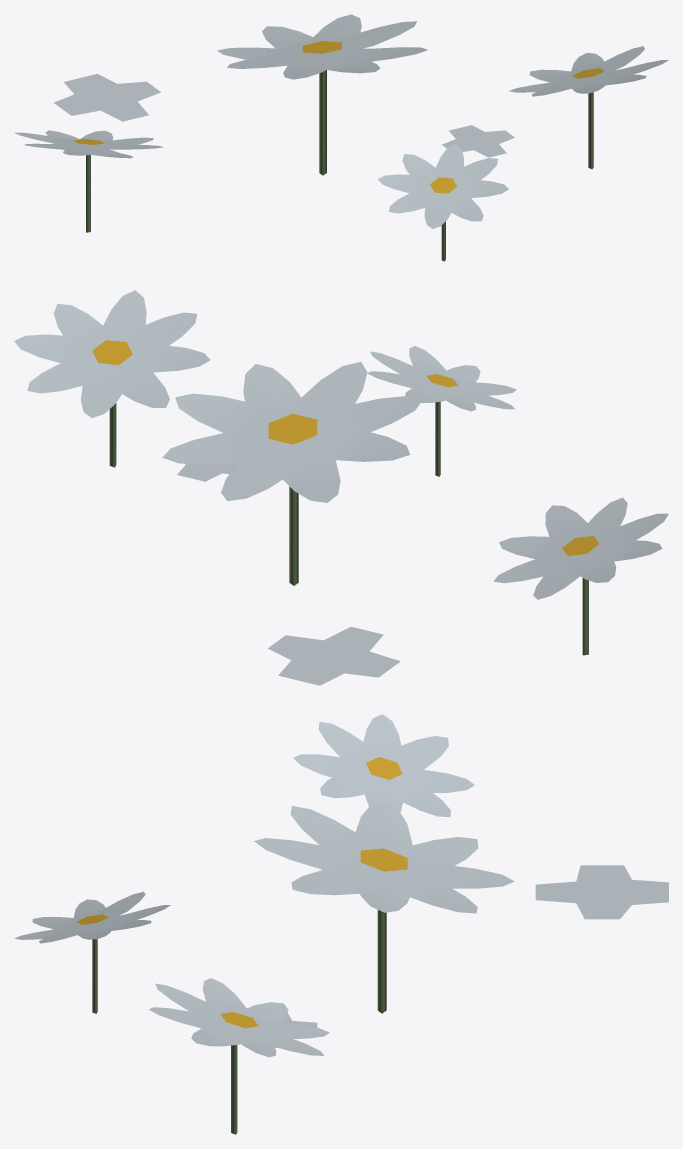
The model's file is P_Fjallsippa_01.fbx.
3 renders of one model, top to bottom at view 1: azimuth 30°, elevation 25°; view 2: azimuth 150°, elevation 25°; view 3: azimuth 270°, elevation 25°, orthographic. The views are drawn at different scales.
Parts seen in each view (by area): view 1: lod1; view 2: lod1; view 3: lod1.
Part boxes in pixels (x1,y1,x2,y2): lod1: (14,14,668,261); lod1: (14,290,668,685); lod1: (14,714,668,1134).
Bounding box in the file's own units: 0.9641 × 0.2272 × 0.7938.
1 material, 1 textured.
